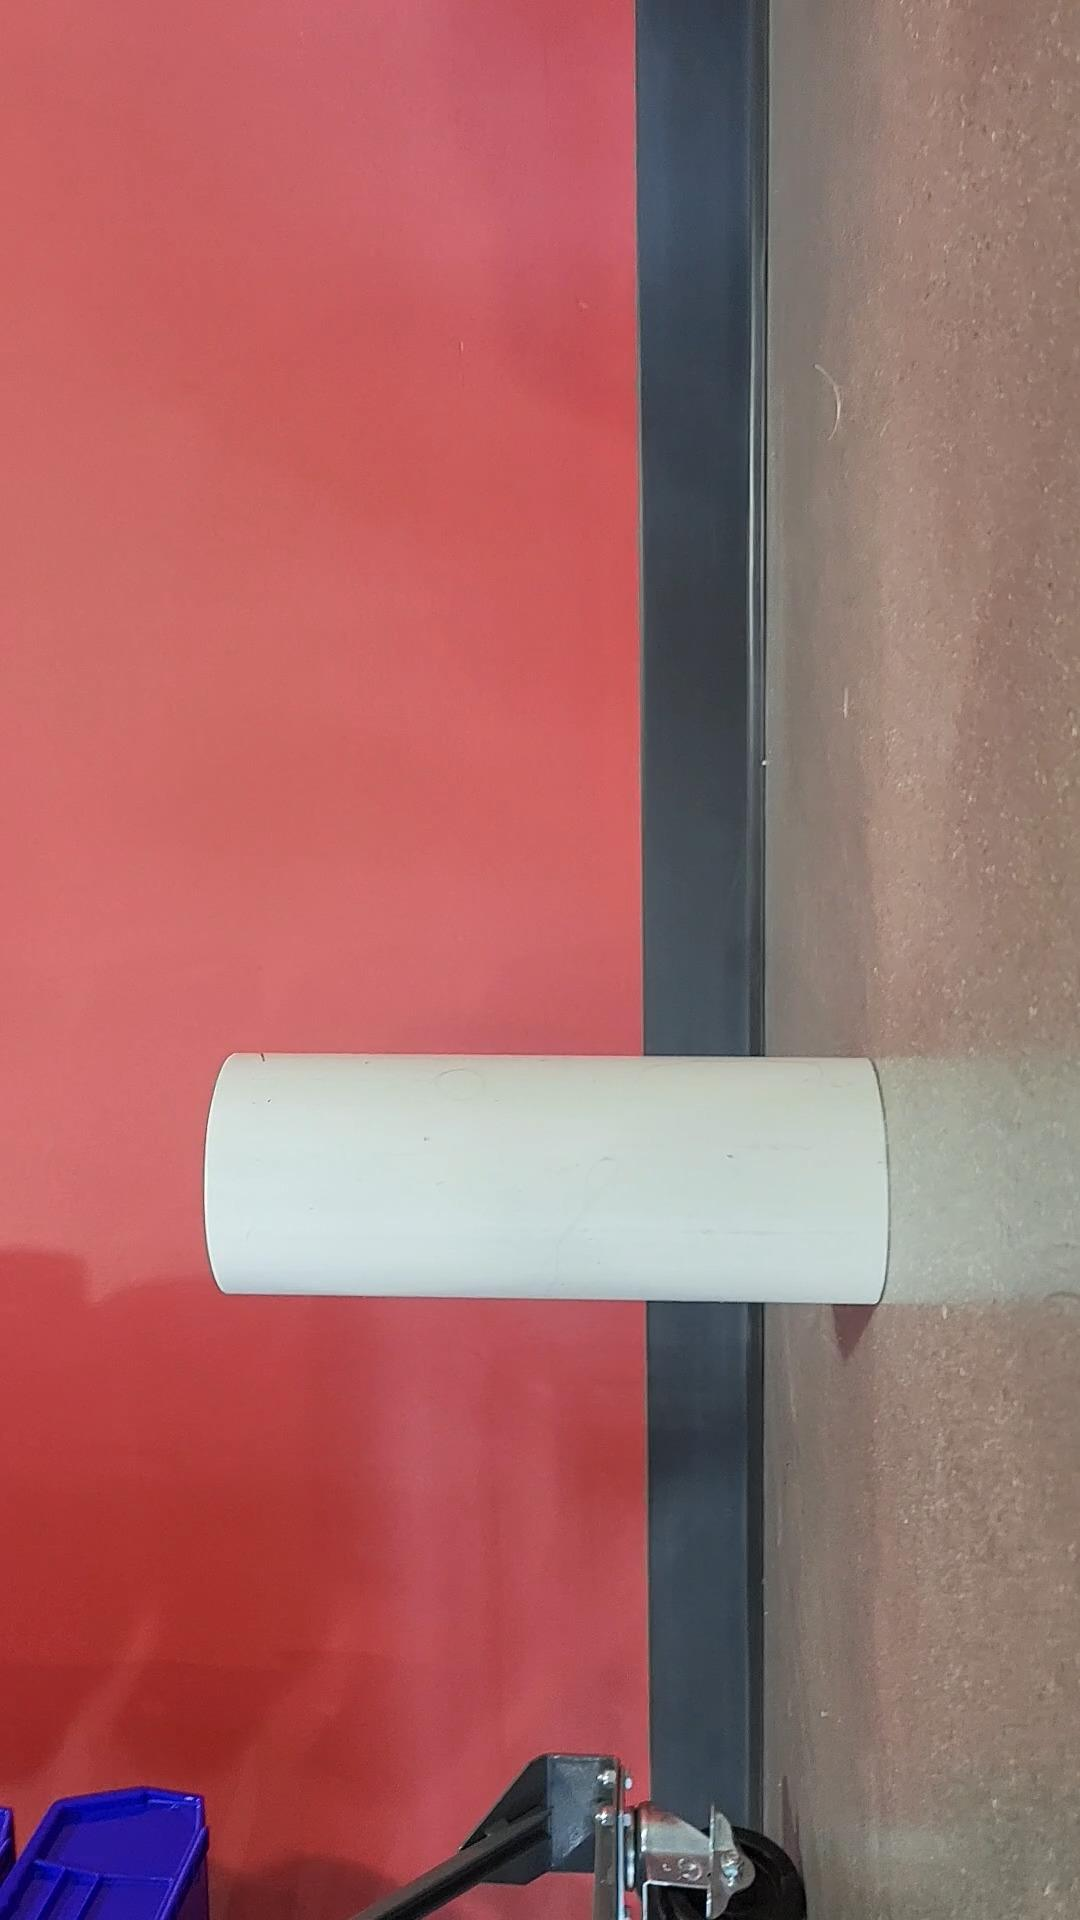coral: (200, 1047, 899, 1320)
